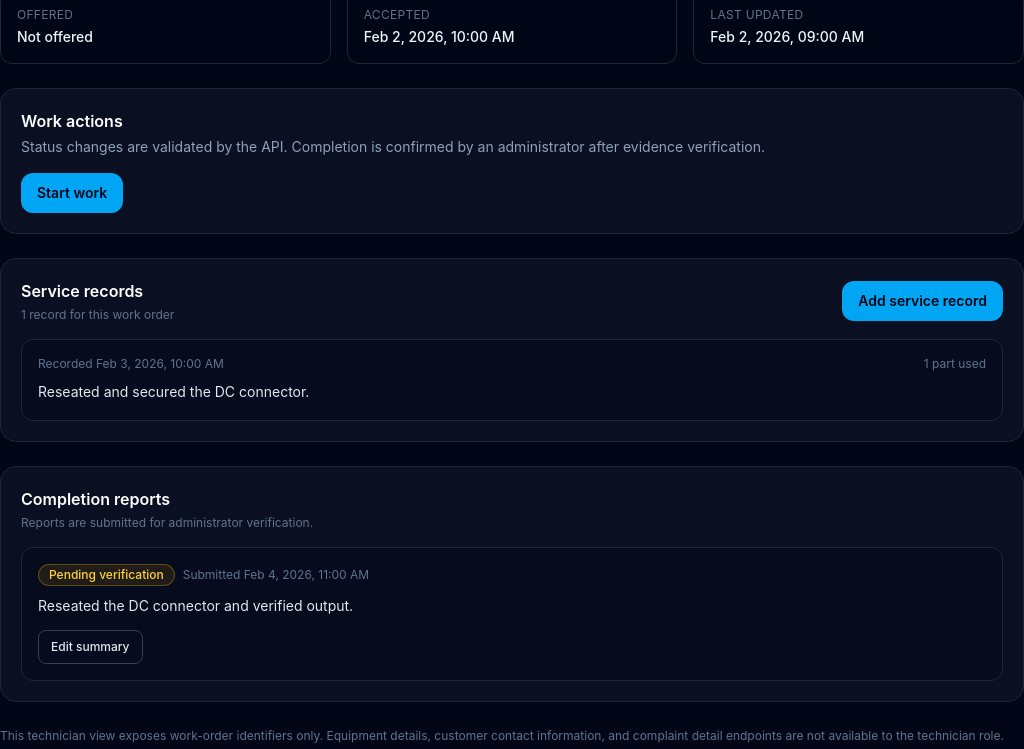
it: pending completion report summaries can be edited
(page scrolled)
Expected: the text "Reseated the DC connector and verified output." is shown, 38,597 -> 353,614
Step 1. Click the button "Edit summary" → (90, 647), box 38,630 -> 142,664
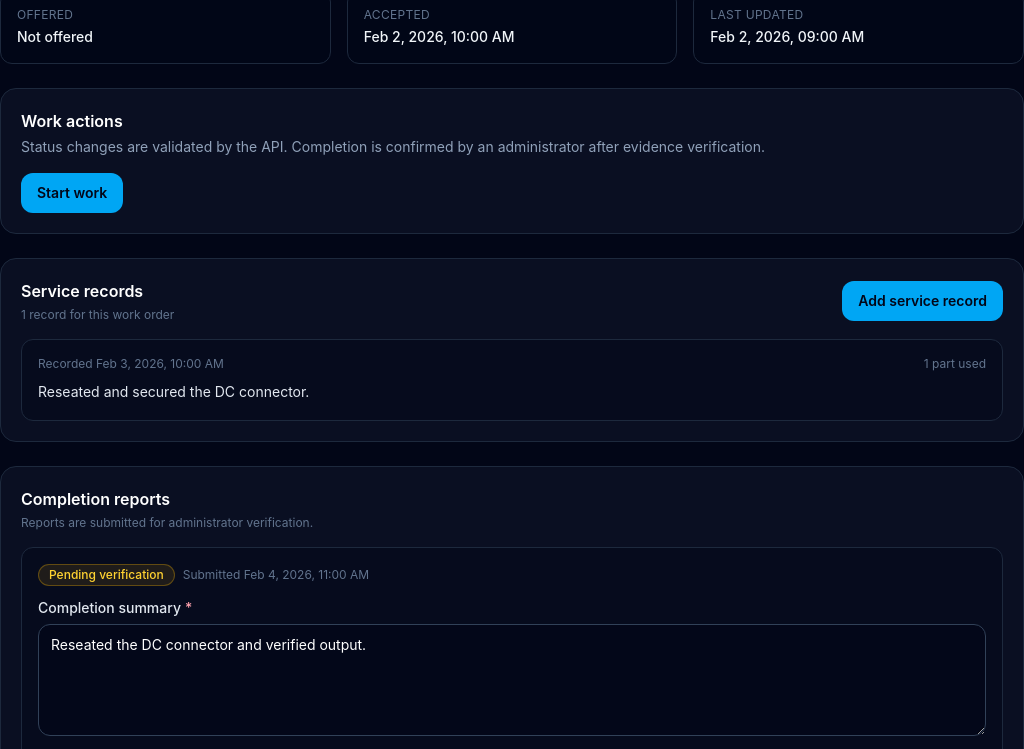
Step 2. Replace the text in the text box labelled "Completion summary*" with "Updated completion summary." → (512, 680), box 38,624 -> 986,736
(page scrolled)
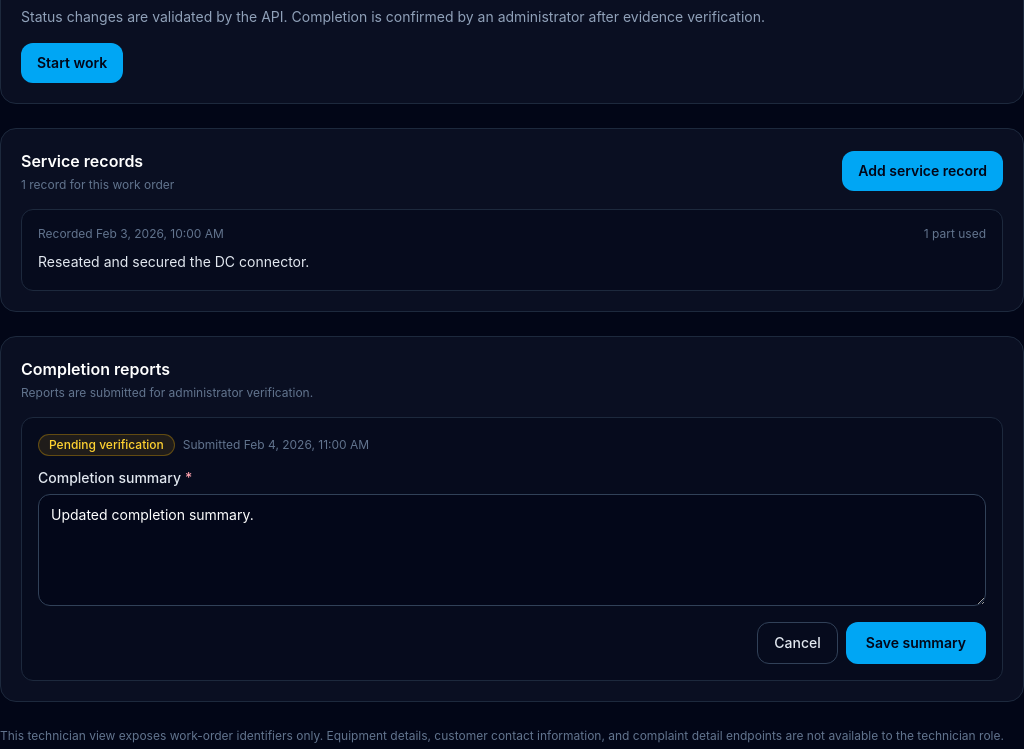
Step 3. Click the button "Save summary" → (916, 643), box 846,622 -> 986,664
(page scrolled)
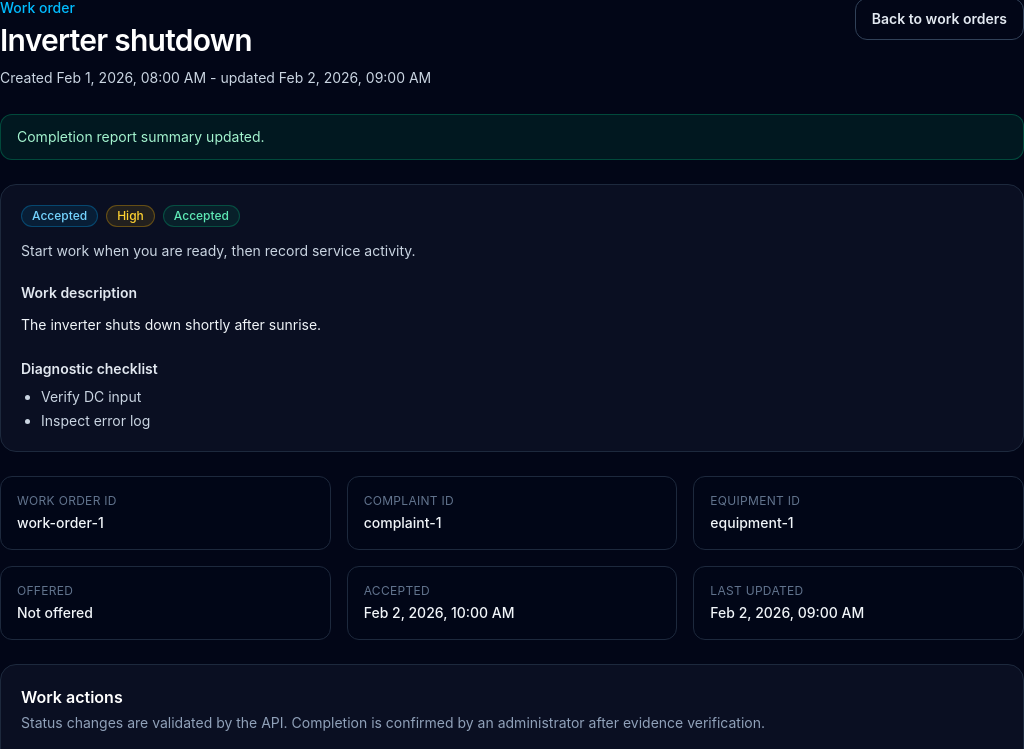
Expected: the text "Completion report summary updated." is shown, 0,114 -> 1023,160
